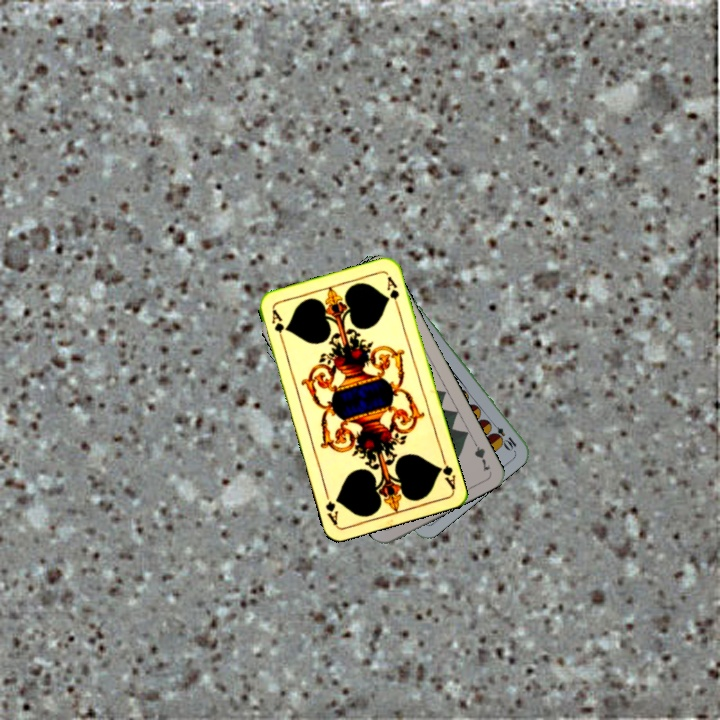E10: (486, 418, 519, 453)
G7: (468, 435, 493, 474)
GA: (434, 452, 458, 491), (267, 305, 288, 345)
